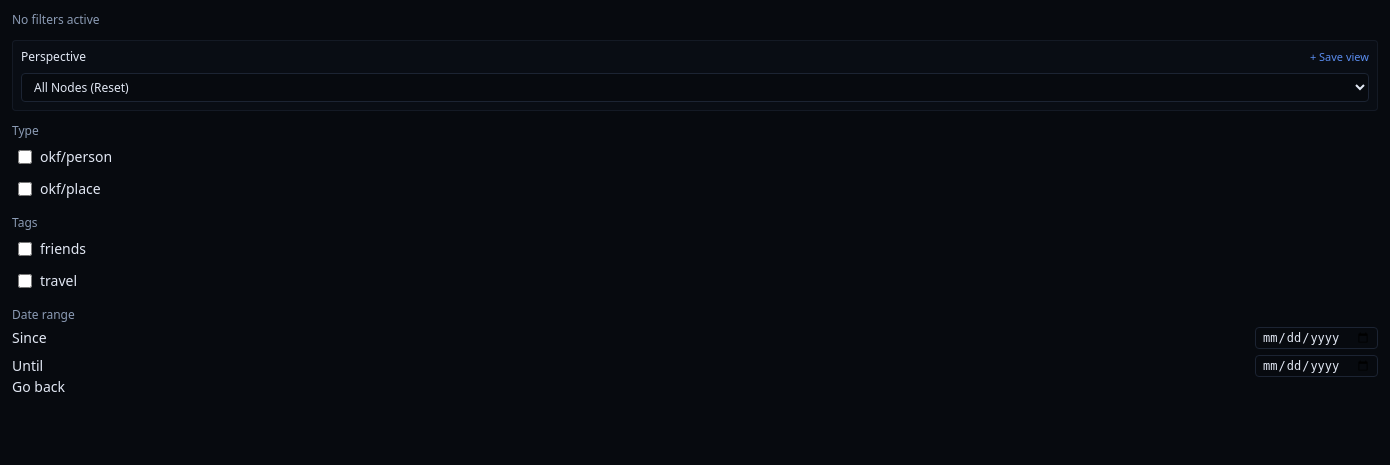
GraphFilters › shows an instance admin no Delete on another admin global perspective
expect the button "+ Save view" is shown: met, box x1=1310 y1=49 x2=1369 y2=65
Select "Other Admin Global" in the dropdown named "Graph perspective" at (695, 88), box x1=21 y1=73 x2=1369 y2=102
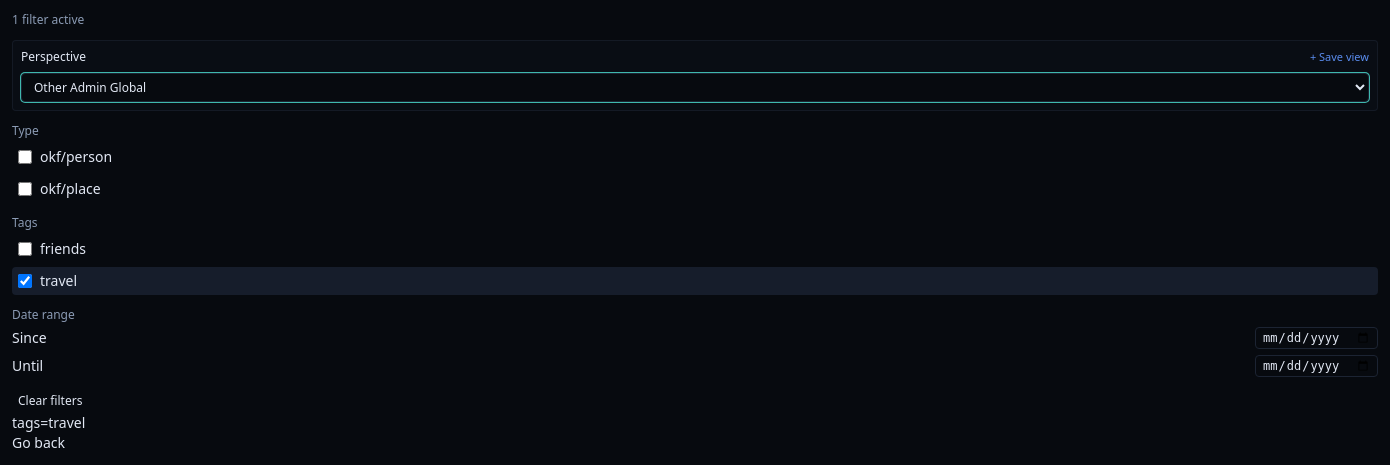
expect the text with test id "params" reads "tags=travel": met, box x1=12 y1=413 x2=85 y2=432
